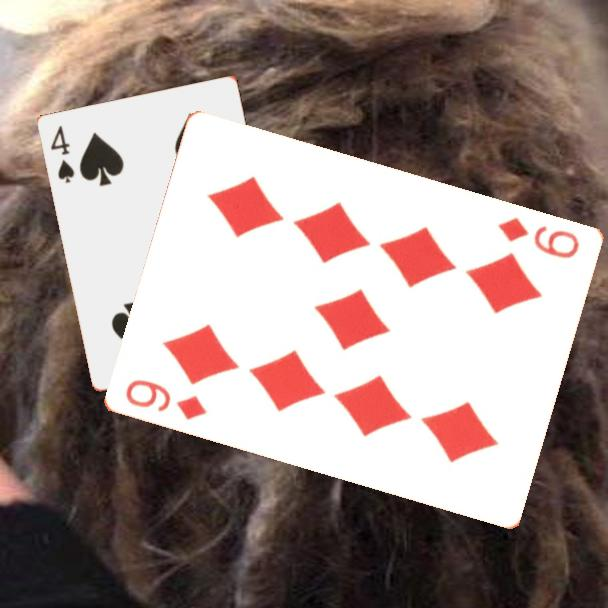d09: (121, 376, 209, 424), (494, 214, 582, 262)
s04: (47, 122, 78, 186)
